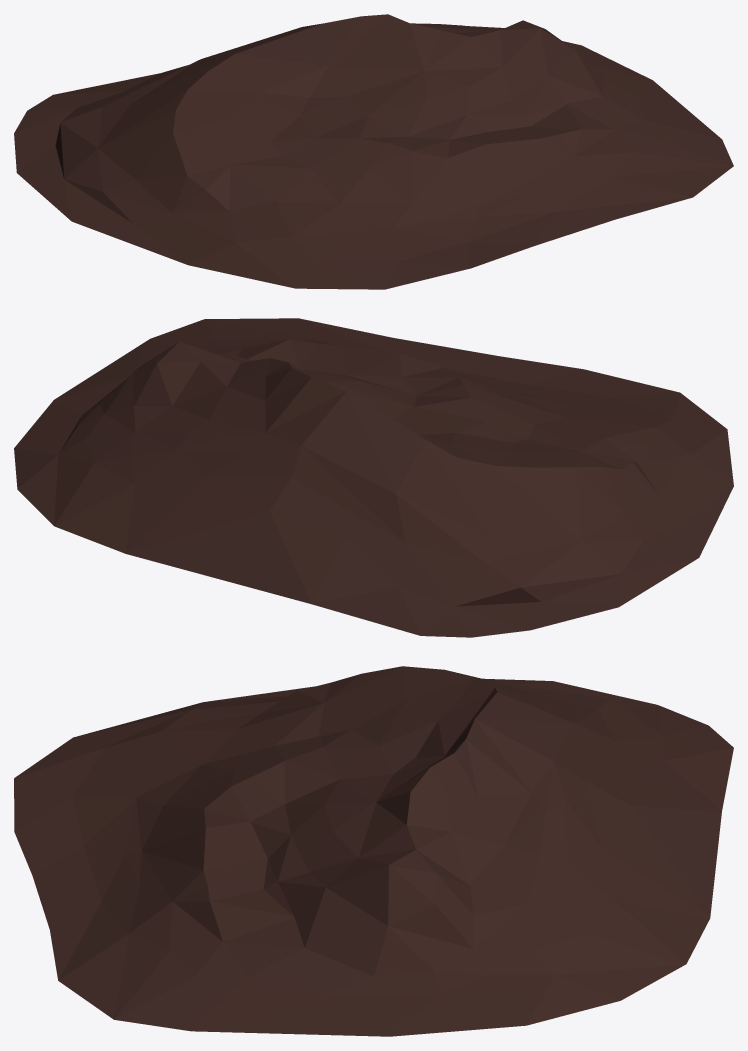
Rendered from Brown_sand_002.fbx.
3 views of the same model, one above another, from view 1: azimuth 30°, elevation 25°; view 2: azimuth 150°, elevation 25°; view 3: azimuth 270°, elevation 25° (orthographic). The views are drawn at different scales.
Parts seen in each view (by area): view 1: Brown_sand_002; view 2: Brown_sand_002; view 3: Brown_sand_002.
Part boxes in pixels (left/top/right/bottom): Brown_sand_002: left=14, top=14, right=733, bottom=289; Brown_sand_002: left=14, top=318, right=733, bottom=637; Brown_sand_002: left=14, top=666, right=733, bottom=1036.
Bounding box in the file's own units: 3131 × 2639 × 546.
